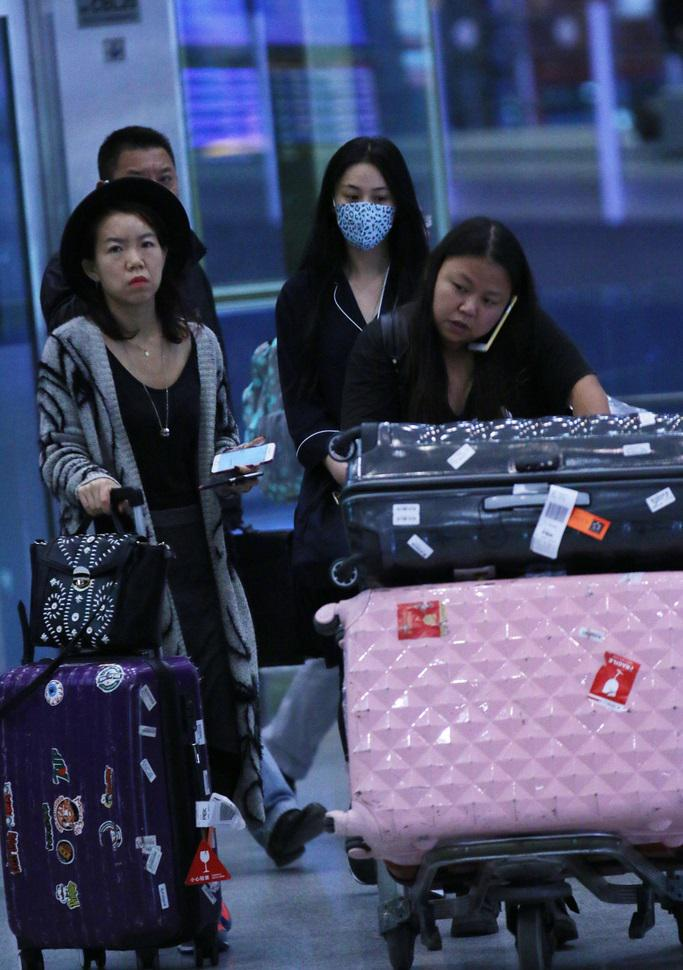NONE: (434, 265, 515, 346), (99, 222, 174, 297)
OK: (334, 178, 403, 247)
